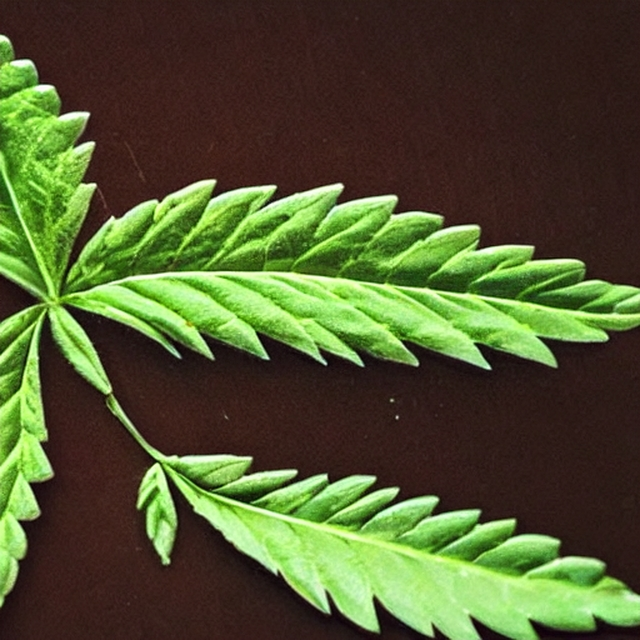Marijuana Leaf: (0, 28, 640, 639)
